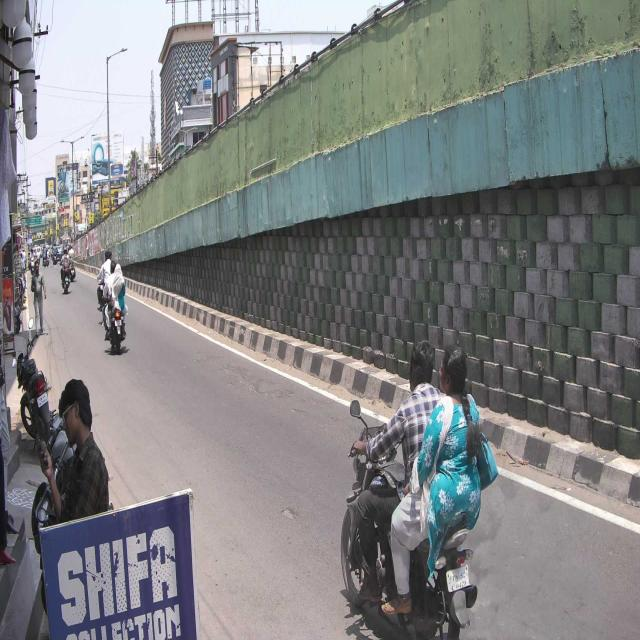double_rider: (339, 339, 494, 640)
